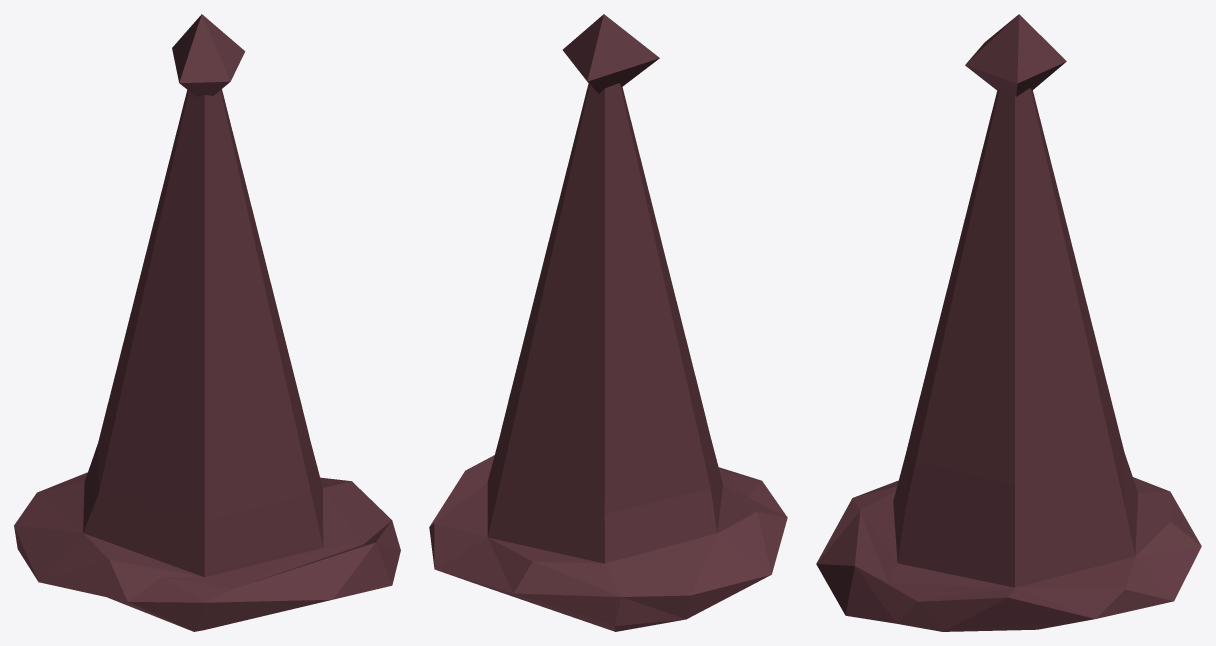
Rendered from props-hat-party.glb.
The picture shows the model from 3 angles, left to right: view 1: azimuth 30°, elevation 25°; view 2: azimuth 150°, elevation 25°; view 3: azimuth 270°, elevation 25°; orthographic projection. The views are drawn at different scales.
Parts seen in each view (by area): view 1: hat-party; view 2: hat-party; view 3: hat-party.
Boxes of the visible parts, x1,y1,x2,y2 form: hat-party: (14, 14, 400, 631); hat-party: (429, 14, 787, 631); hat-party: (816, 14, 1201, 631).
Bounding box in the file's own units: 0.2309 × 0.3928 × 0.242.
